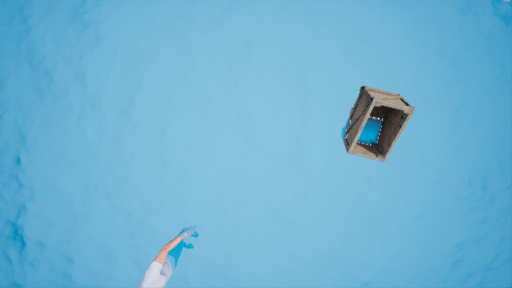person: (137, 229, 200, 288)
